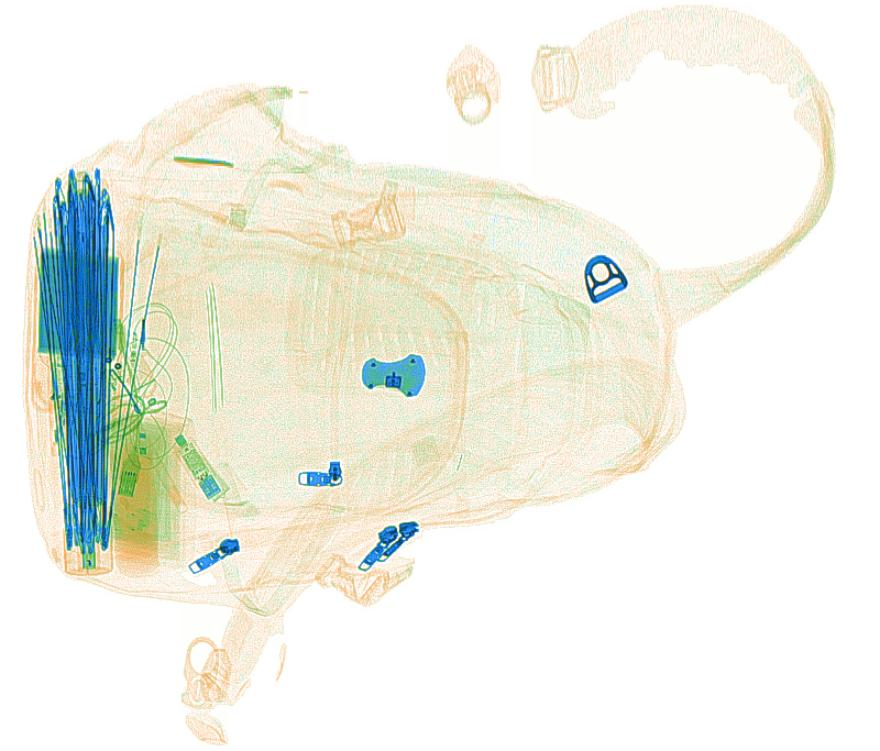USBFlashDisk: (173, 430, 224, 502)
